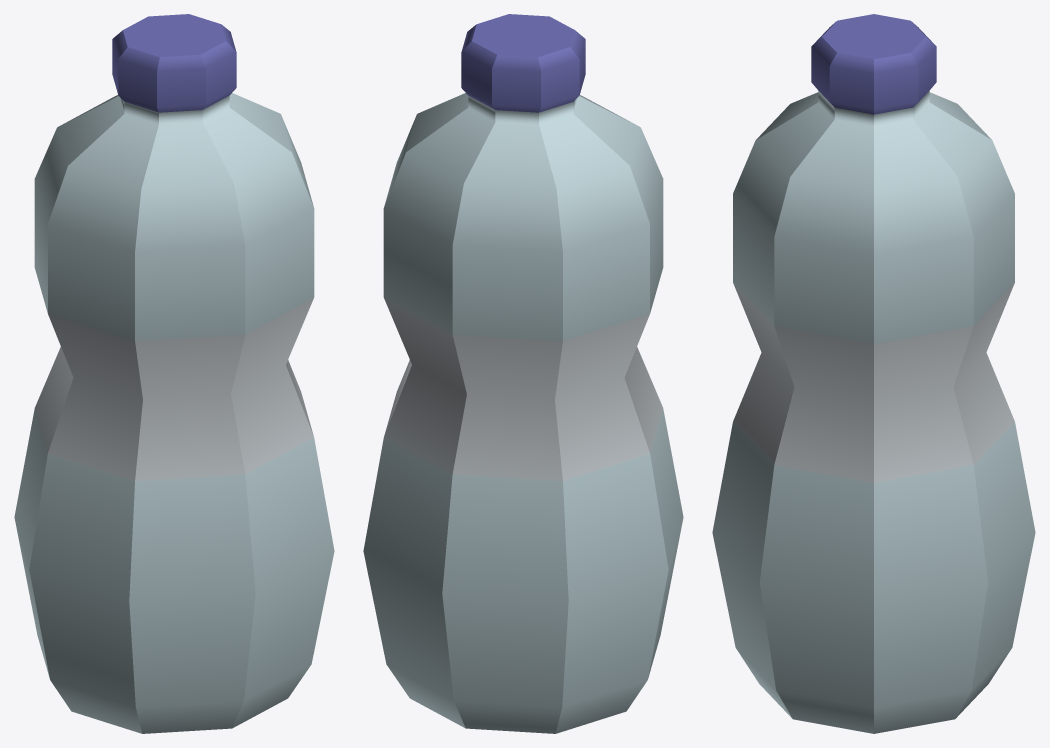
The model's file is WaterBottle_Model_SC.fbx.
3 renders of one model, left to right at view 1: azimuth 30°, elevation 25°; view 2: azimuth 150°, elevation 25°; view 3: azimuth 270°, elevation 25°, orthographic.
Visible parts, largest first — view 1: pCylinder1; view 2: pCylinder1; view 3: pCylinder1.
Boxes of the visible parts, left/top/right/bottom form: pCylinder1: left=14, top=14, right=334, bottom=733; pCylinder1: left=363, top=14, right=683, bottom=733; pCylinder1: left=712, top=14, right=1035, bottom=733.
Size of the model in its own units: 0.2959 by 0.6434 by 0.2868.
